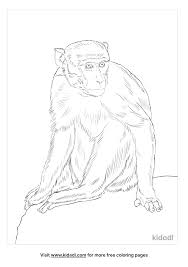monkey: (42, 34, 173, 241)
